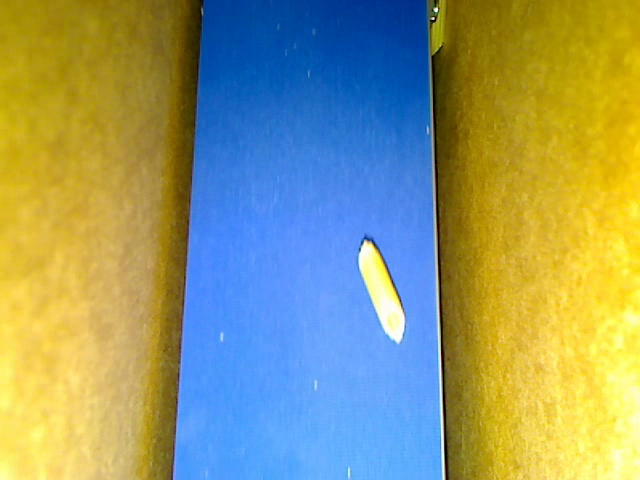penne: (354, 234, 404, 342), (430, 1, 448, 51)
